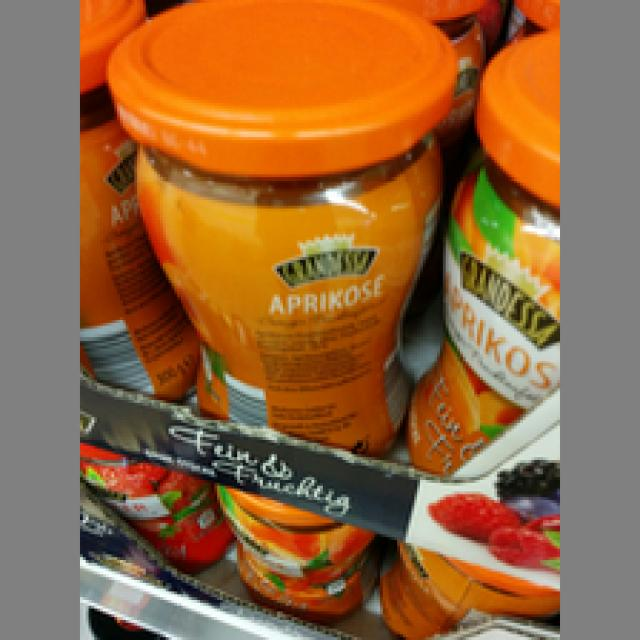groceries: (103, 0, 454, 466), (400, 23, 557, 471)
